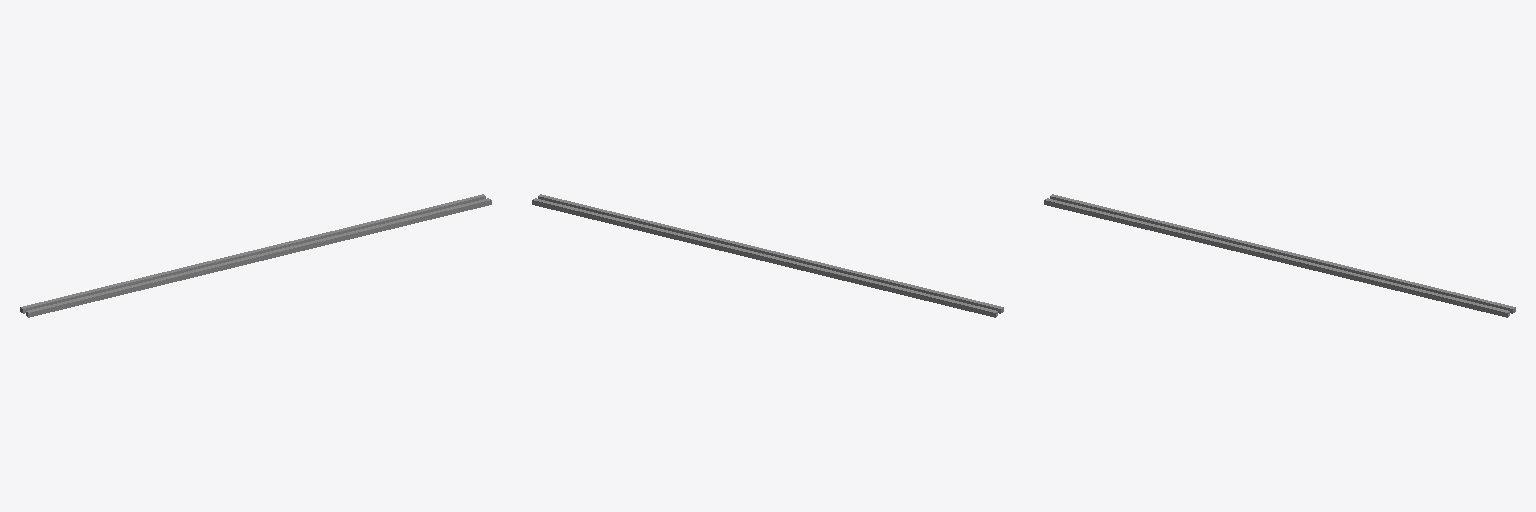
The robot description file, URDF, robot "vibro_table":
<?xml version="1.0"?>
<robot name="vibro_table">
    <material name="steel">
        <color rgba="0.6 0.6 0.6 1.0"/>
    </material>

    <link name="base_link"/>

    <link name="left_rail">
        <visual>
        <geometry>
            <box size="5.0 0.05 0.05"/> <!-- Длина, ширина, высота -->
        </geometry>
        <material name="steel"/>
        </visual>
        <collision>
        <geometry>
            <box size="5.0 0.05 0.05"/>
        </geometry>
        </collision>
        <inertial>
        <mass value="1.0"/>
        <inertia ixx="1.0" ixy="0" ixz="0" iyy="1.0" iyz="0" izz="1.0"/>
        </inertial>
    </link>

    <link name="right_rail">
        <visual>
        <geometry>
            <box size="5.0 0.05 0.05"/>
        </geometry>
        <material name="steel"/>
        </visual>
        <collision>
        <geometry>
            <box size="5.0 0.05 0.05"/>
        </geometry>
        </collision>
        <inertial>
        <mass value="1.0"/>
        <inertia ixx="1.0" ixy="0" ixz="0" iyy="1.0" iyz="0" izz="1.0"/>
        </inertial>
    </link>

        <!-- Соединение левой рельсы с базой -->
    <joint name="left_rail_joint" type="fixed">
        <parent link="base_link"/>
        <child link="left_rail"/>
        <origin xyz="0 0.05 0.001" rpy="0 0 0"/> <!-- Позиция относительно центра -->
    </joint>

    <!-- Соединение правой рельсы с базой -->
    <joint name="right_rail_joint" type="fixed">
        <parent link="base_link"/>
        <child link="right_rail"/>
        <origin xyz="0 -0.05 0.001" rpy="0 0 0"/> <!-- Параллельно левой рельсе -->
    </joint>
    <gazebo>
  <plugin name="move_planar" filename="libgazebo_ros_planar_move.so">
    <ros>
        <!-- Remap the default topic -->
        <remapping>cmd_vel:=platform_vel</remapping>
        <remapping>odom:=platform_odom</remapping>
    </ros>
    
    <odometry_frame>odom</odometry_frame>
    <robot_base_frame>base_link</robot_base_frame>
    <publish_odometry>true</publish_odometry>
    <publish_odometry_tf>true</publish_odometry_tf>
    <xy_velocity_max>1.0</xy_velocity_max>
    <yaw_velocity_max>1.0</yaw_velocity_max>
    <static>false</static> <!-- Для подвижных объектов -->
  </plugin>
</gazebo>
</robot>

--- What the picture shows (computed from the rendered views, not written in the file) ---
Views: 3 orthographic renders of the robot side by side, from view 1: azimuth 30°, elevation 25°; view 2: azimuth 150°, elevation 25°; view 3: azimuth 330°, elevation 25°.
Robot: vibro_table — 3 links, 2 joints (2 fixed); root link base_link; default pose: every joint at zero.
Visible links, largest first — view 1: right_rail, left_rail; view 2: left_rail, right_rail; view 3: right_rail, left_rail.
Boxes of the visible links, bbox=[...] form: right_rail: bbox=[26, 198, 491, 317]; left_rail: bbox=[20, 194, 485, 313]; left_rail: bbox=[532, 198, 997, 317]; right_rail: bbox=[538, 194, 1003, 313]; right_rail: bbox=[1044, 198, 1509, 317]; left_rail: bbox=[1050, 194, 1515, 313].
Bounding box of the posed robot: 5 × 0.15 × 0.05 m (x, y, z).
Geometry: primitives only (box / cylinder / sphere), no mesh files.
